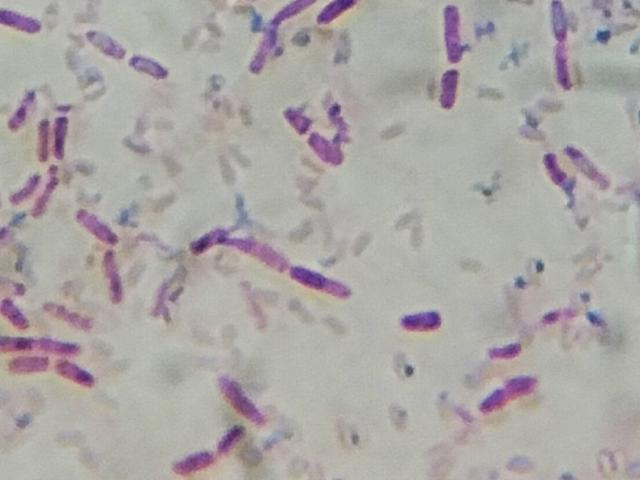E. coli: (193, 222, 282, 271), (471, 373, 541, 424), (291, 256, 351, 306), (391, 300, 446, 341), (568, 136, 612, 186), (93, 243, 127, 306), (429, 63, 466, 119), (435, 5, 470, 62), (249, 13, 285, 67), (223, 375, 261, 424), (551, 37, 581, 93), (32, 171, 67, 216), (78, 203, 118, 242), (308, 125, 344, 168), (55, 359, 102, 391), (51, 296, 92, 330), (166, 443, 212, 473), (0, 334, 76, 352), (9, 165, 41, 207), (0, 2, 44, 32), (548, 0, 581, 40), (276, 99, 309, 136), (9, 89, 38, 131), (0, 292, 28, 335), (541, 147, 568, 191), (129, 50, 168, 80), (317, 0, 351, 33), (54, 109, 75, 161), (89, 27, 123, 59), (8, 353, 48, 379), (483, 342, 525, 365), (216, 420, 246, 450), (274, 0, 310, 25), (39, 115, 52, 166), (445, 123, 448, 123)
